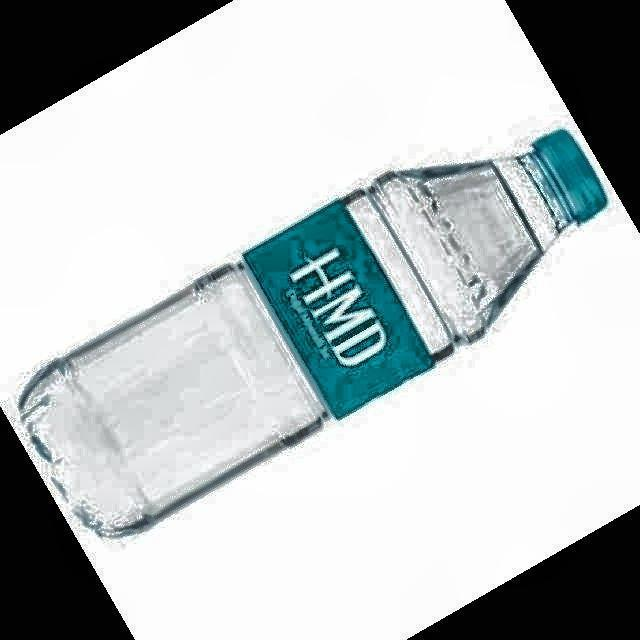plastic: (19, 130, 606, 536)
